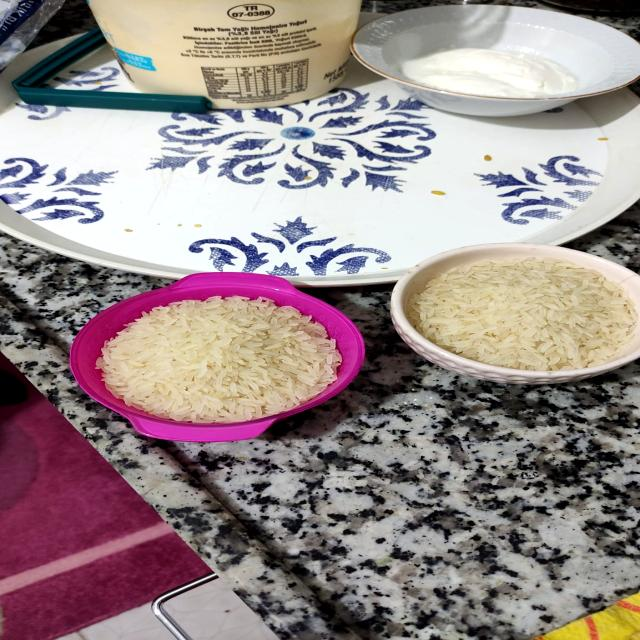rice: (52, 256, 390, 443), (379, 240, 640, 386)
yogurt: (353, 4, 640, 116)
